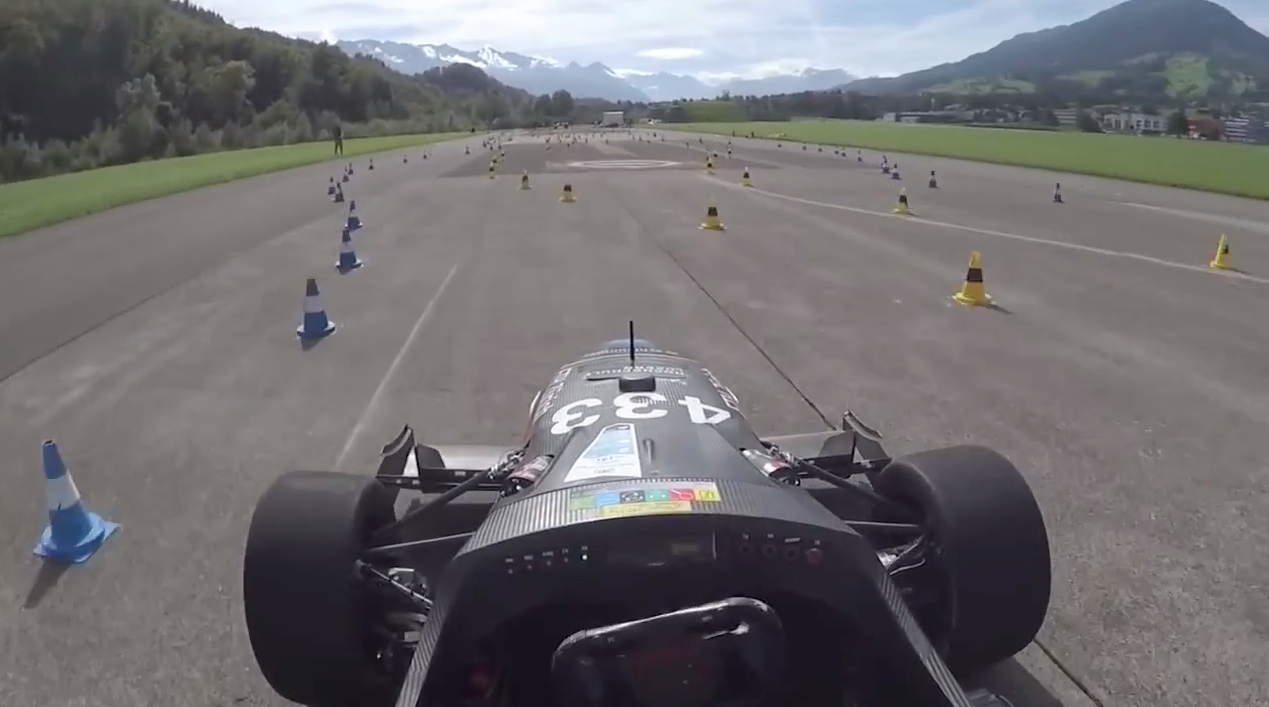lcone: (12, 423, 133, 576), (288, 274, 340, 344), (326, 221, 363, 271), (341, 196, 367, 229)
rcone: (947, 244, 995, 310), (1204, 228, 1238, 272), (697, 191, 727, 233), (888, 184, 916, 219)
